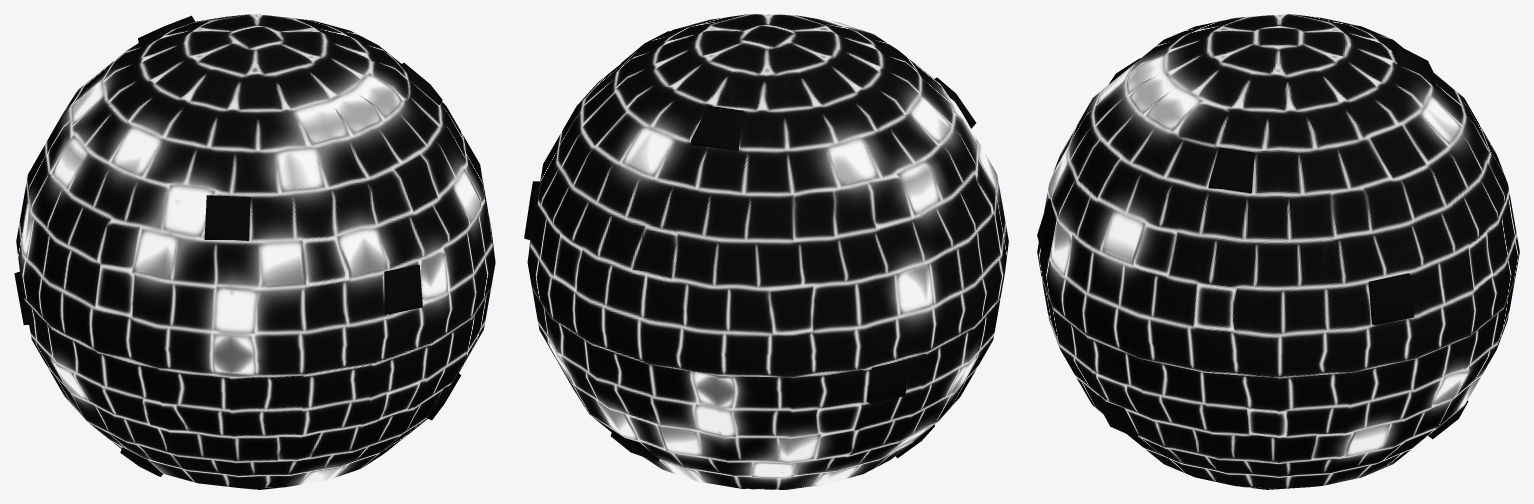
3 renders of one model, left to right at view 1: azimuth 30°, elevation 25°; view 2: azimuth 150°, elevation 25°; view 3: azimuth 270°, elevation 25°, orthographic.
Parts seen in each view (by area): view 1: con_prop_disco_ball_mesh.1; view 2: con_prop_disco_ball_mesh.1; view 3: con_prop_disco_ball_mesh.1.
Part boxes in pixels (x1,y1,x2,y2): con_prop_disco_ball_mesh.1: (14,14,495,489); con_prop_disco_ball_mesh.1: (524,14,1008,489); con_prop_disco_ball_mesh.1: (1037,14,1519,489).
Bounding box in the file's own units: 1.1 × 1.1 × 1.1.
1 material, 1 textured.
